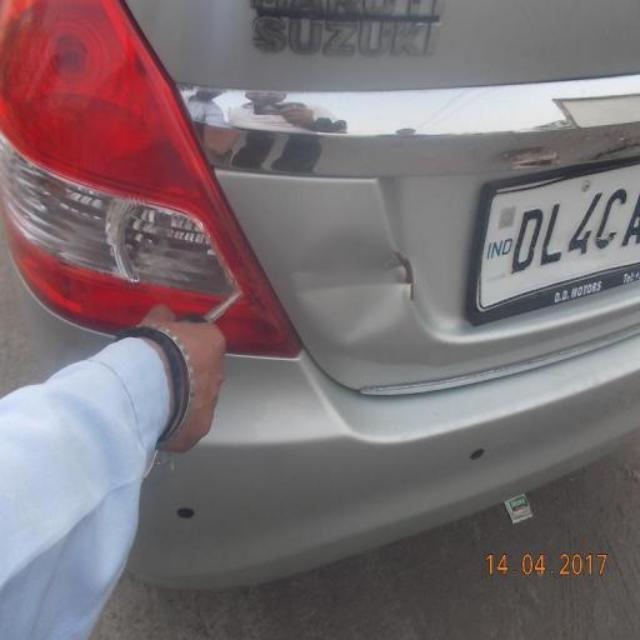dent: (290, 235, 408, 344)
scratch: (392, 252, 415, 299)
